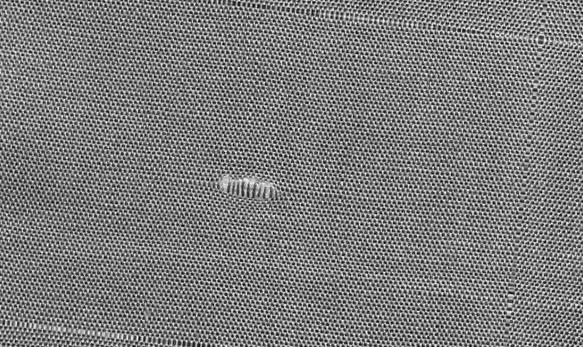slub: (216, 169, 287, 209)
